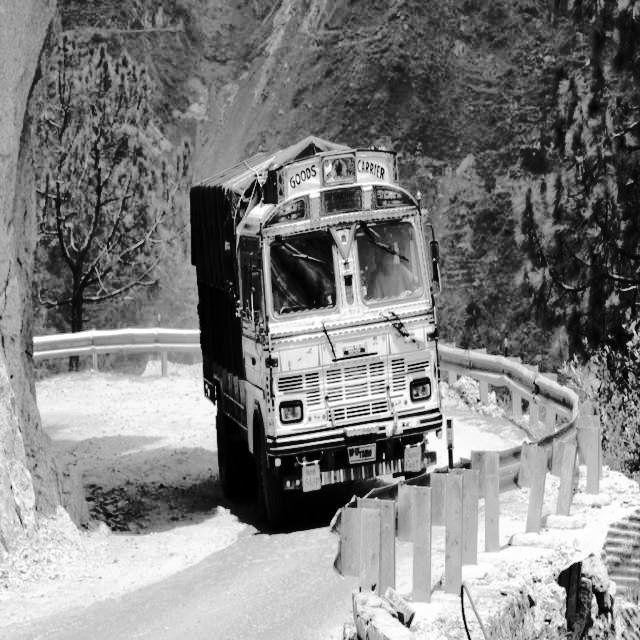HCV: (182, 140, 464, 538)
